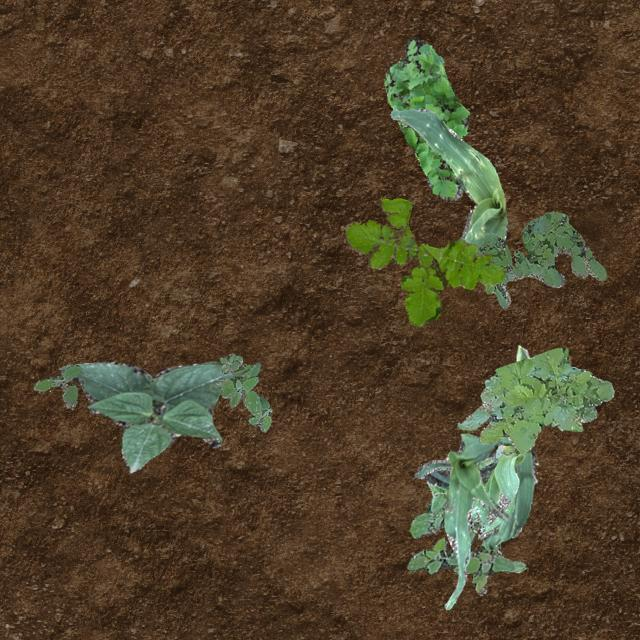crop: (422, 344, 538, 548), (58, 359, 234, 472), (412, 432, 512, 608), (388, 108, 506, 248), (470, 448, 524, 536)
weed: (344, 197, 506, 326), (406, 444, 526, 594), (457, 347, 612, 452), (384, 36, 468, 200), (474, 210, 604, 308), (208, 352, 270, 430), (33, 364, 80, 408)
